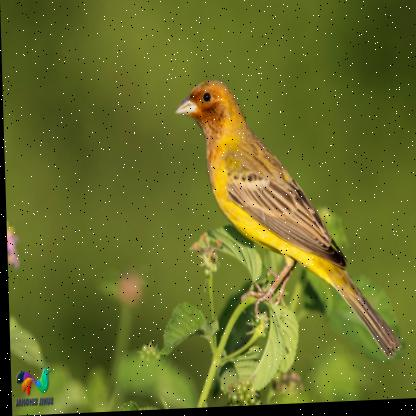Burung: (173, 77, 401, 371)
